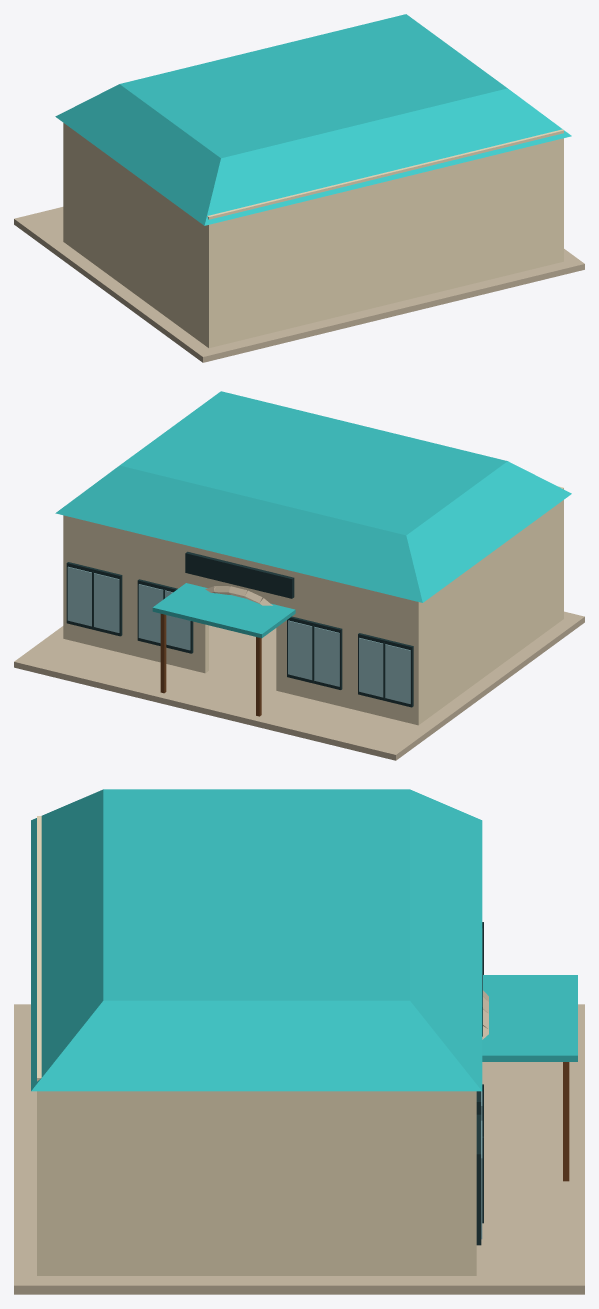
The model's file is souvenir_shop.fbx.
3 views of the same model, one above another, from view 1: azimuth 30°, elevation 25°; view 2: azimuth 150°, elevation 25°; view 3: azimuth 270°, elevation 25° (orthographic). The views are drawn at different scales.
Parts seen in each view (by area): view 1: souvenir_shop; view 2: souvenir_shop; view 3: souvenir_shop.
Boxes of the visible parts, <box> form: souvenir_shop: <box>14,14,584,362</box>; souvenir_shop: <box>14,391,584,760</box>; souvenir_shop: <box>14,789,584,1294</box>.
Size of the model in its own units: 14 by 6 by 12.
